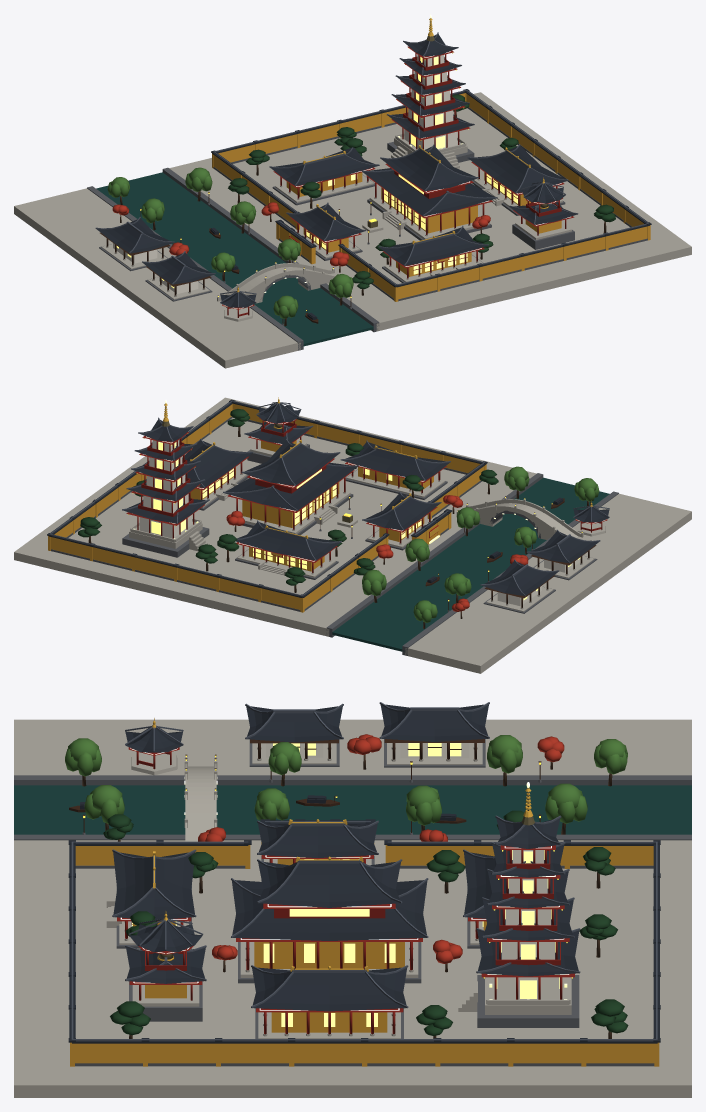
The model's file is hanshan_temple.glb.
The picture shows the model from 3 angles, top to bottom: view 1: azimuth 30°, elevation 25°; view 2: azimuth 150°, elevation 25°; view 3: azimuth 270°, elevation 25°; orthographic projection. The views are drawn at different scales.
Parts seen in each view (by area): view 1: HanshanTemple; view 2: HanshanTemple; view 3: HanshanTemple.
Boxes of the visible parts, <box> form: HanshanTemple: <box>14,14,691,368</box>; HanshanTemple: <box>14,397,691,673</box>; HanshanTemple: <box>14,702,691,1097</box>.
Bounding box in the file's own units: 148 × 44.75 × 116.
